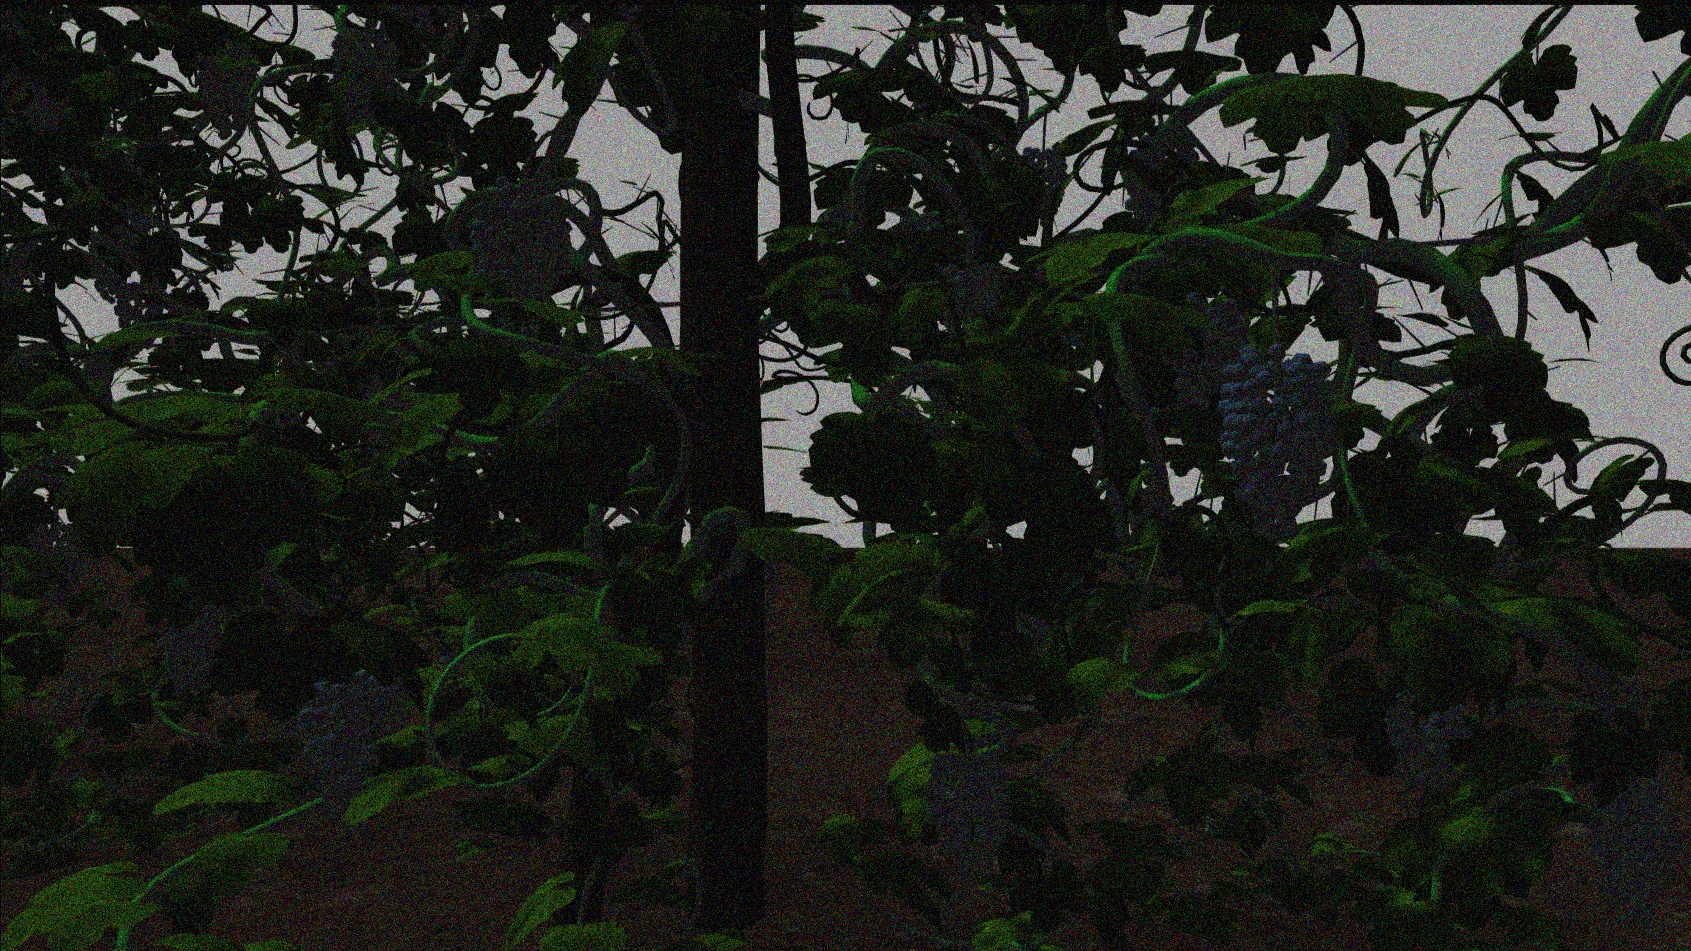grape: (1219, 345, 1332, 546), (292, 663, 387, 821), (1585, 770, 1682, 925), (465, 175, 573, 305), (922, 751, 1012, 886), (1160, 293, 1246, 408), (1382, 692, 1471, 795), (149, 592, 229, 697), (190, 31, 257, 141), (329, 26, 400, 123), (22, 518, 86, 613), (942, 255, 1005, 323)
